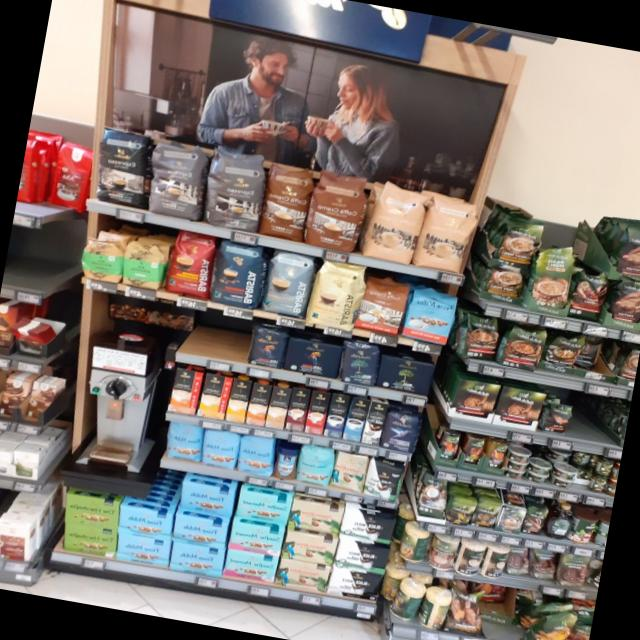Athiopien Bohne: (78, 234, 125, 283)
Athiopien Gemahlen: (120, 239, 167, 291)
BM Bohne: (338, 338, 382, 388)
BM Gemahlen: (376, 354, 436, 398)
BW Bohne: (362, 458, 407, 504)
BW Gemahlen: (338, 509, 396, 548), (332, 540, 390, 578), (327, 566, 382, 602)
Barista CB: (304, 258, 366, 332)
Barista CC: (260, 250, 314, 320)
Barista Espresso: (206, 238, 266, 310)
Barista Kolumbien: (162, 229, 218, 301)
C Fino Bohne: (380, 407, 423, 454)
CC Mild: (363, 183, 428, 265), (414, 195, 479, 274)
CC Vollmundig: (354, 273, 412, 335)
CC Vollmundig 36 Pads: (304, 166, 369, 252), (256, 160, 314, 242)
Colombia BB Bohne: (329, 451, 368, 494)
Colombia BB Gemahlen: (286, 498, 344, 538), (280, 529, 338, 566), (274, 556, 330, 594)
Empty Shelf: (178, 309, 250, 363)
Espresso Aromatisch: (200, 146, 268, 232), (144, 136, 210, 220)
Espresso Kraftig: (88, 125, 153, 208)
FM 36 Pads: (400, 284, 459, 346)
FM Bohne: (235, 432, 277, 480), (199, 427, 240, 471), (162, 421, 204, 463)
FM Gemahlen: (112, 530, 171, 569), (115, 503, 175, 541), (168, 540, 224, 579), (178, 481, 235, 519), (171, 514, 228, 550)
FM Instant: (272, 443, 300, 482)
Herzhatfe Mundig: (62, 491, 120, 532), (59, 523, 118, 558)
LG Bohne: (246, 322, 290, 370)
LG Gemahlen: (284, 337, 344, 379)
SM Bohne: (293, 443, 335, 488)
SM Gemahlen: (234, 488, 292, 527), (222, 548, 279, 586), (227, 520, 285, 557)
Simo CCMild: (197, 373, 232, 420)
Simo CCMild bigpack: (226, 377, 250, 423)
Simo CCVollmundig: (168, 367, 203, 415)
Simo CCVollmundig bigpack: (245, 382, 271, 426)
Simo Decaff: (264, 385, 290, 430)
Simo Es Brazil: (304, 389, 329, 436)
Simo Es Caramel: (284, 387, 310, 432)
Simo Es Elegant: (362, 400, 388, 446)
Simo Es Kraft: (324, 392, 348, 440)
Simo Es Vanilla: (342, 396, 370, 442)
